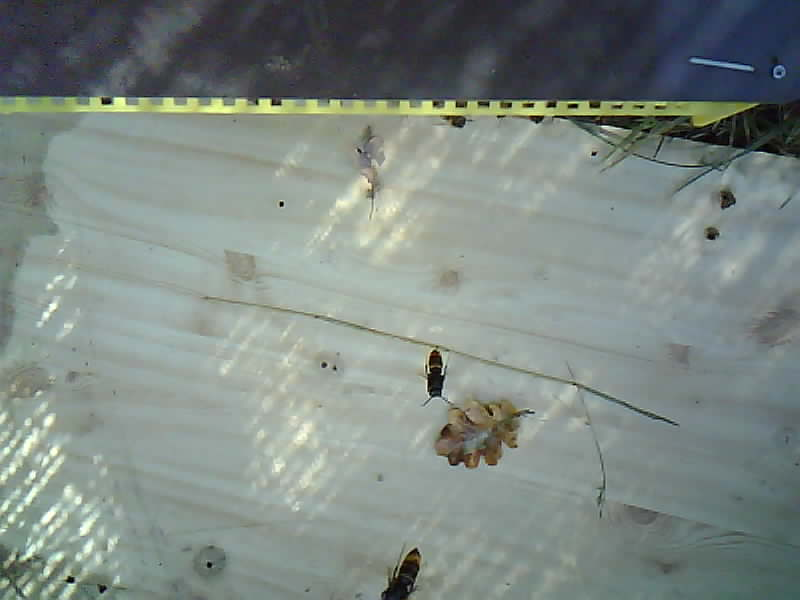hornet: (376, 539, 433, 600), (420, 344, 451, 401)
